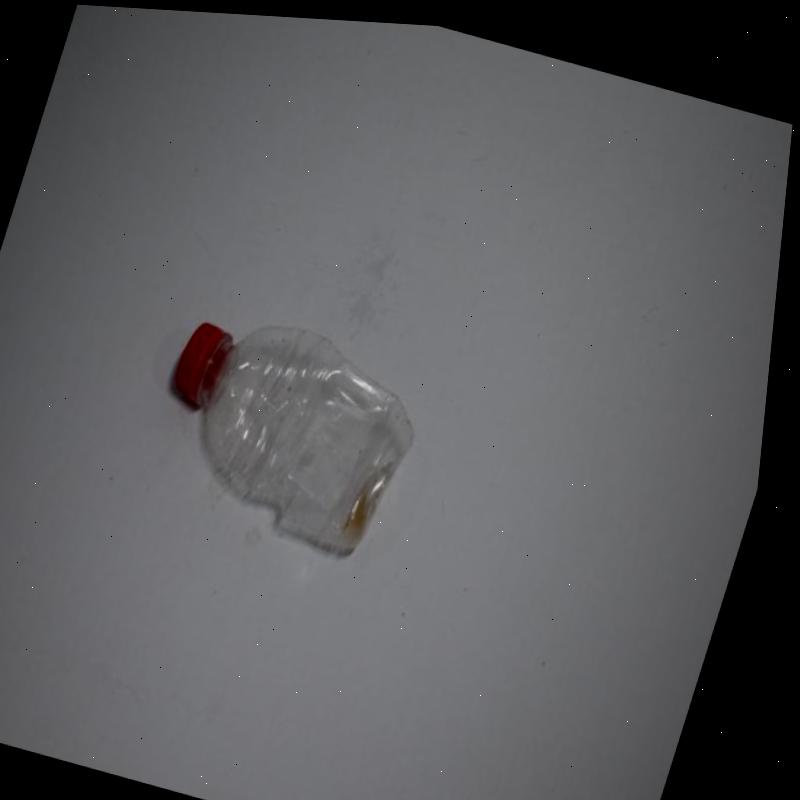botella: (139, 291, 450, 556)
